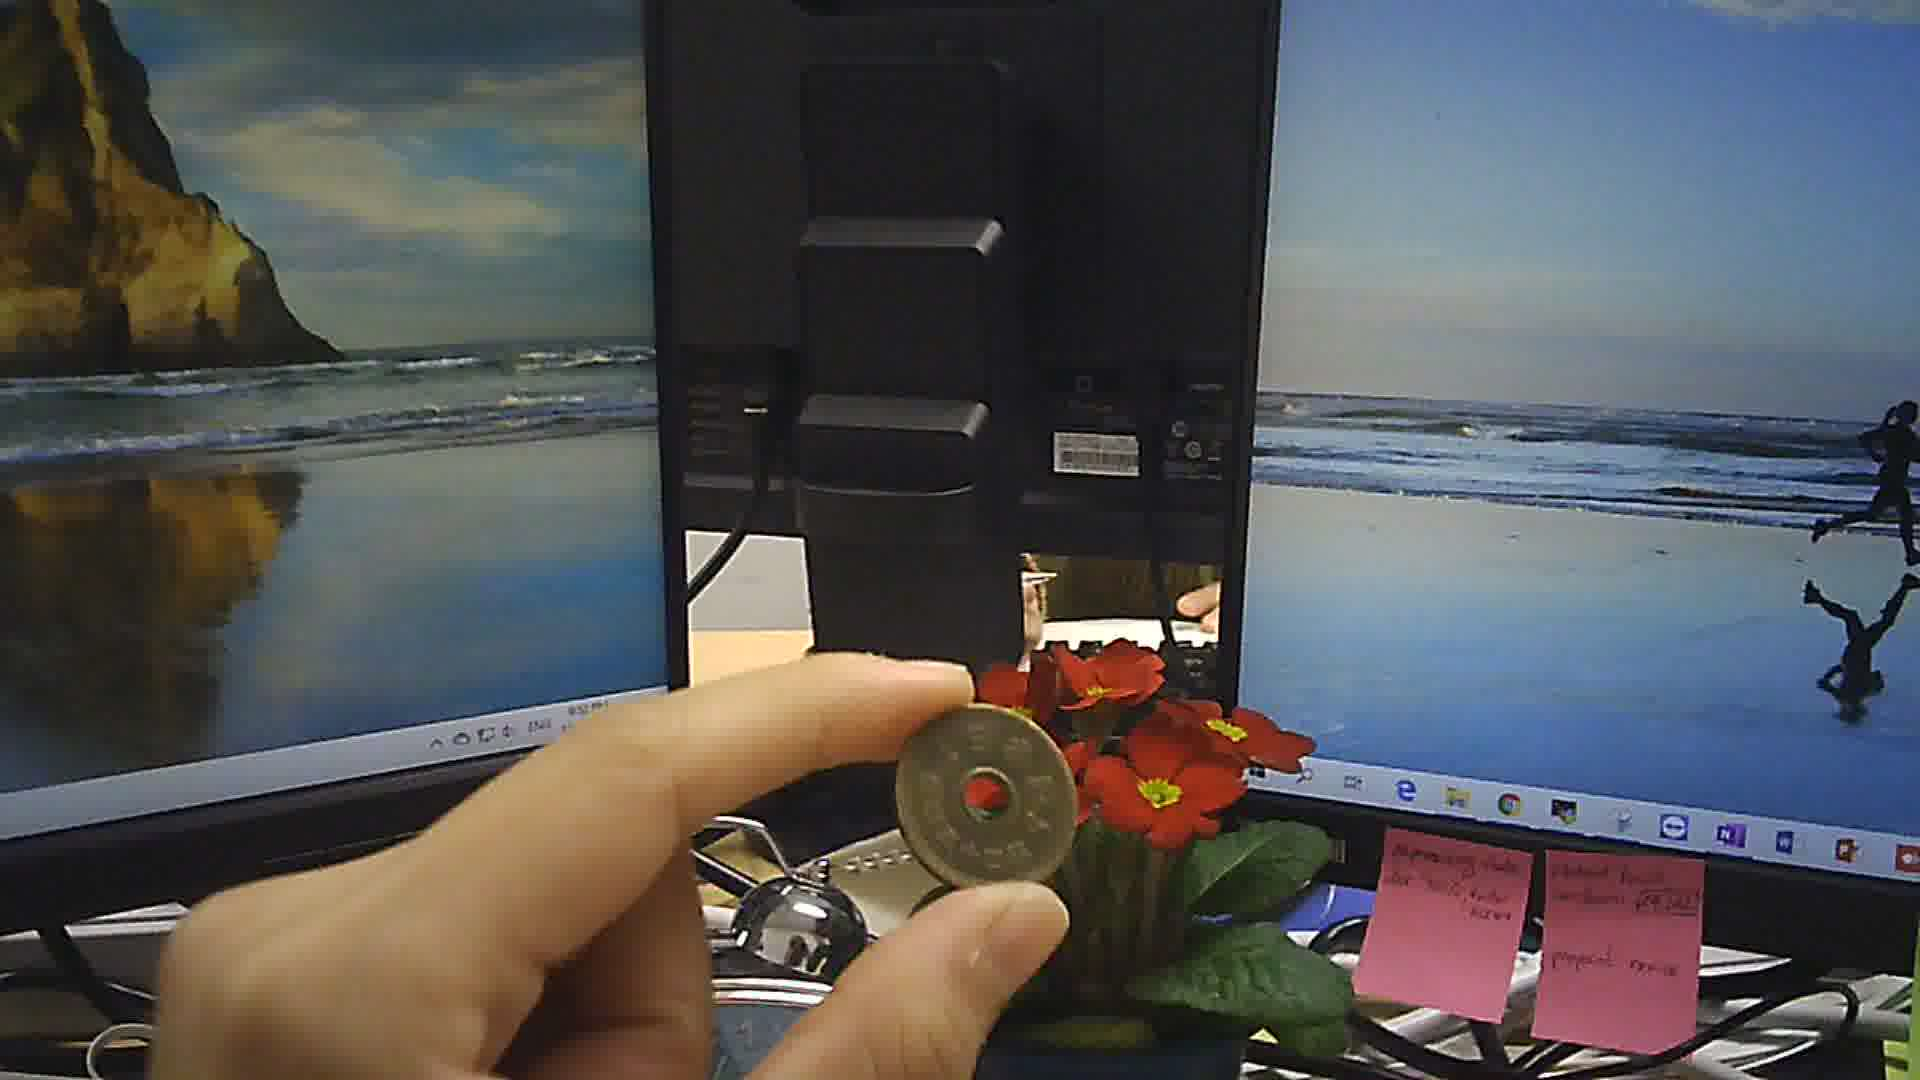5 Yen: (897, 692, 1085, 886)
